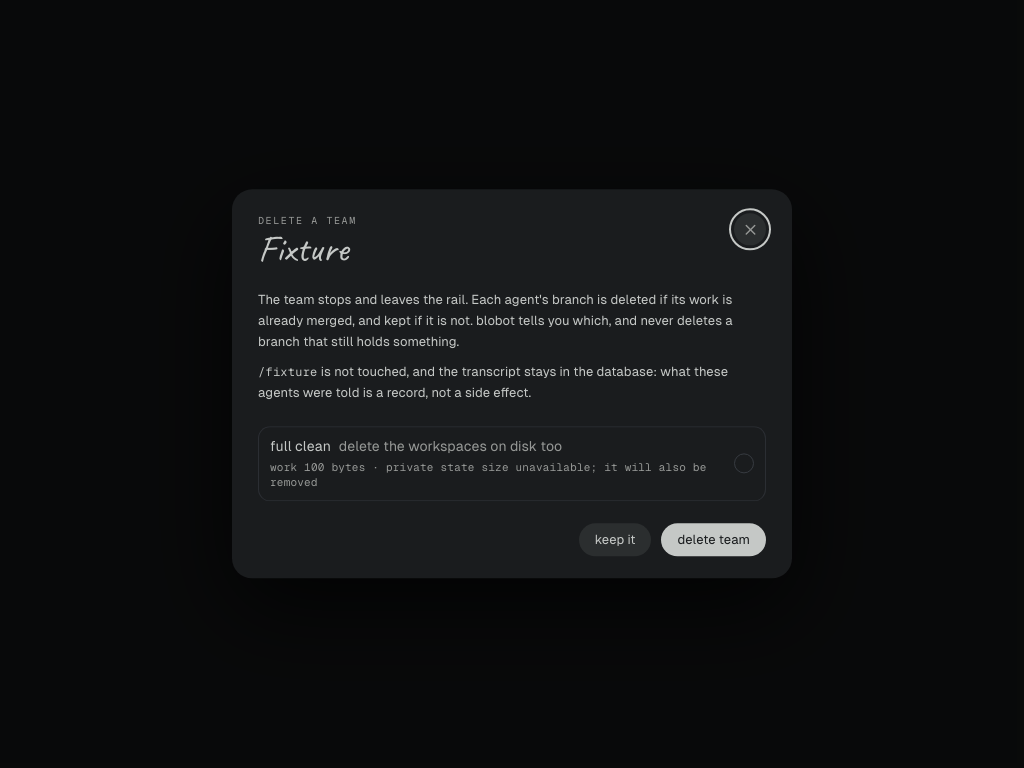
keeps a private-state removal failure visible after the working folder was successfully discarded
Click the button that starts with "full clean" at (512, 464), box [258,426,766,501]
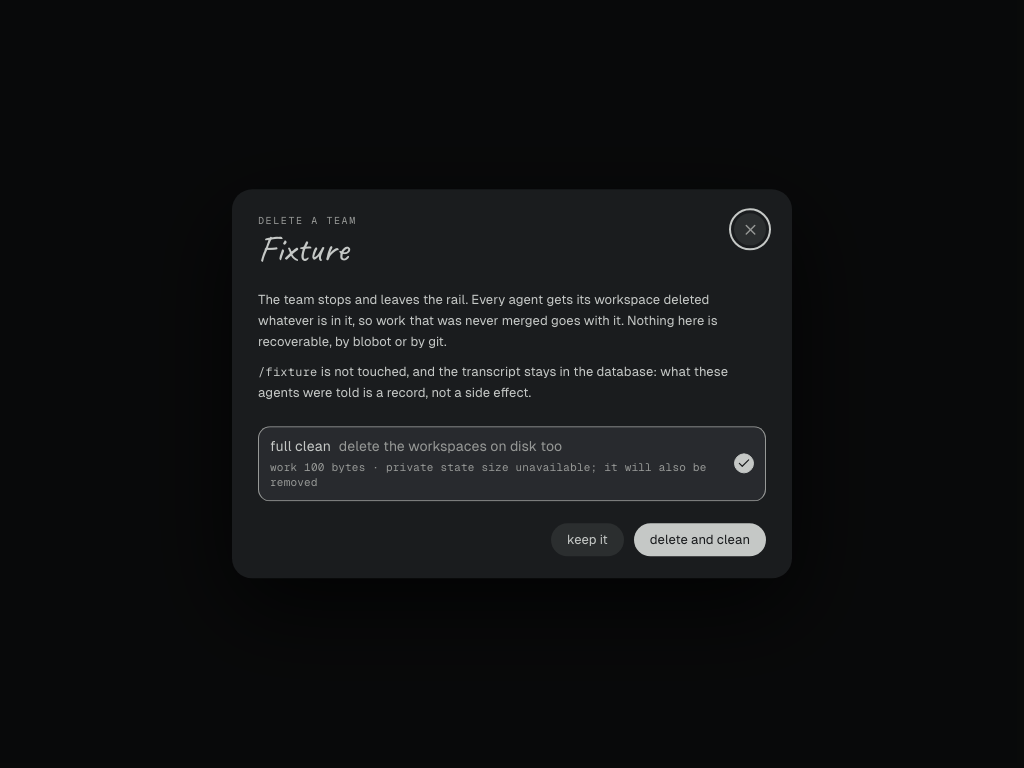
Click the button "delete and clean" at (700, 540), box [634,523,766,557]
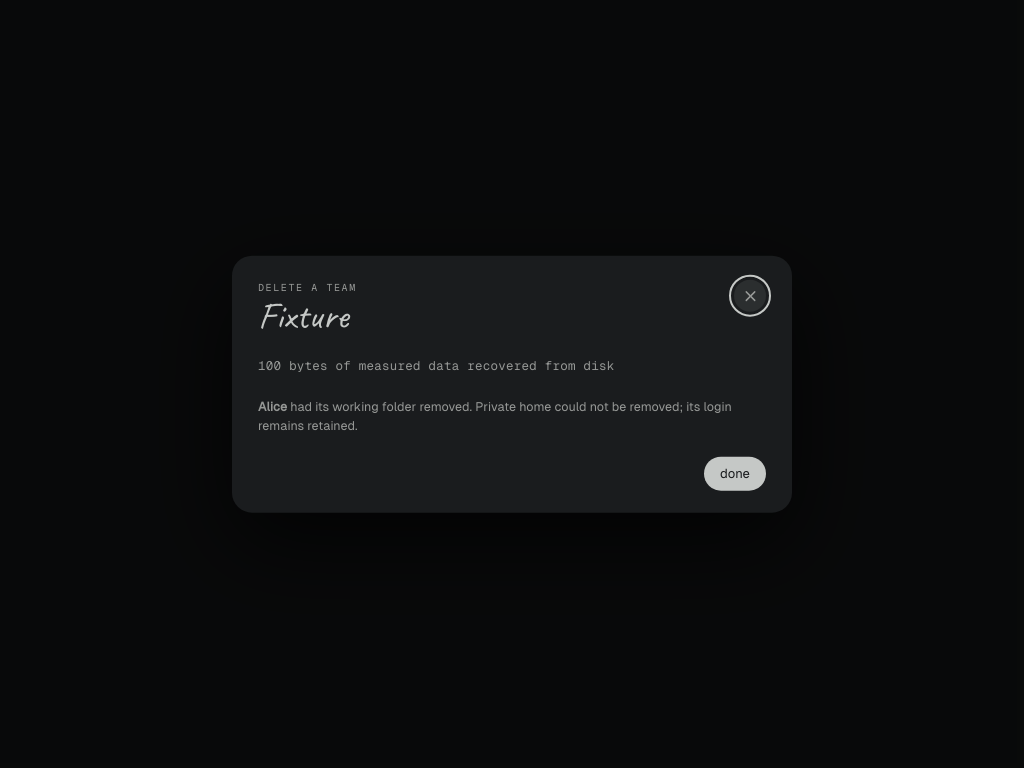
Expected: the text "Alice" is shown, [258,398,287,413]
Expected: the text "working folder removed" is shown, [290,398,475,413]
Expected: the text "Private home could not be removed" is shown, [258,398,732,432]
